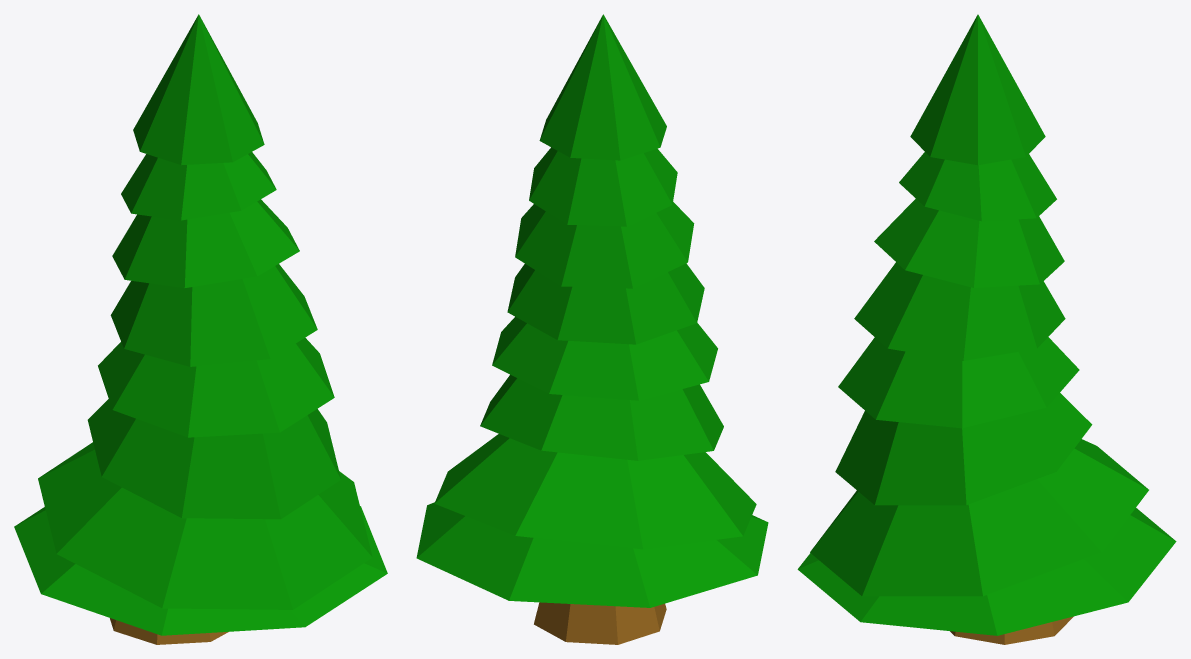
Rendered from tree.fbx.
The picture shows the model from 3 angles, left to right: view 1: azimuth 30°, elevation 25°; view 2: azimuth 150°, elevation 25°; view 3: azimuth 270°, elevation 25°; orthographic projection. The views are drawn at different scales.
Visible parts, largest first — view 1: Cylinder; view 2: Cylinder; view 3: Cylinder.
Part boxes in pixels (x1,y1,x2,y2): Cylinder: (14,14,387,644); Cylinder: (416,14,768,644); Cylinder: (797,14,1176,644).
Bounding box in the file's own units: 538 × 537 × 947.
